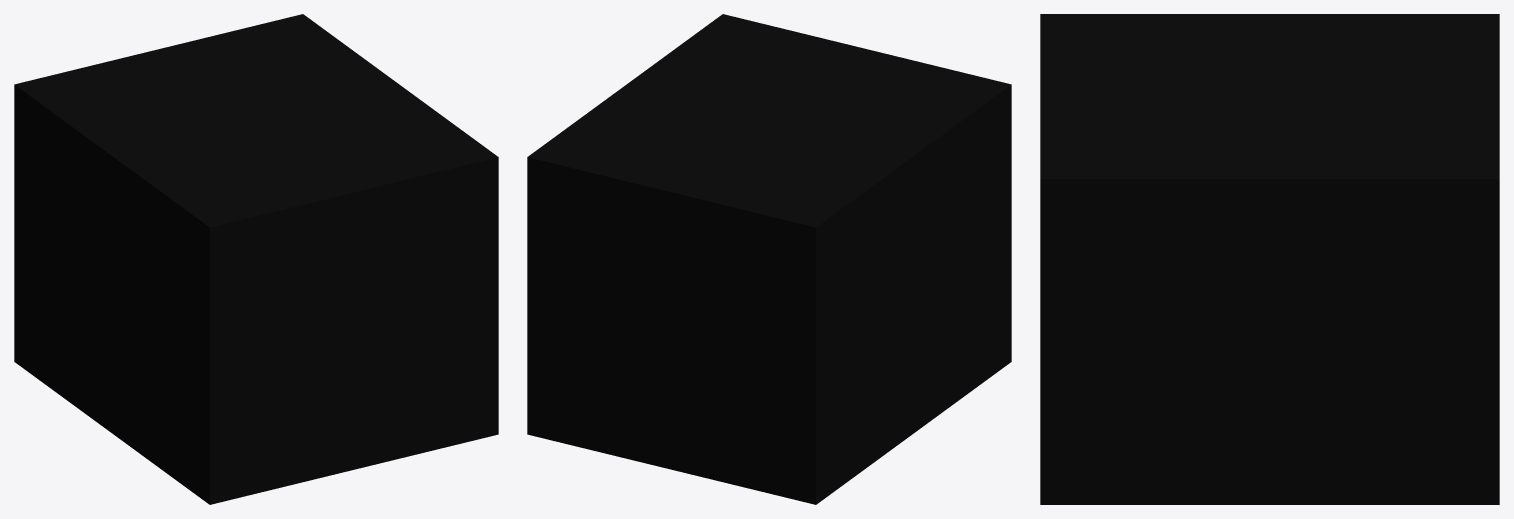
File: half_life_alyx_-_hotel_lobby_basement.glb
3 views of the same model, side by side, from view 1: azimuth 30°, elevation 25°; view 2: azimuth 150°, elevation 25°; view 3: azimuth 270°, elevation 25° (orthographic). The views are drawn at different scales.
Visible parts, largest first — view 1: Object_2; view 2: Object_2; view 3: Object_2.
Part boxes in pixels (x1=…): Object_2: x1=14, y1=14, x2=498, y2=504; Object_2: x1=527, y1=14, x2=1011, y2=504; Object_2: x1=1040, y1=14, x2=1499, y2=504.
Size of the model in its own units: 6.9 by 6.33 by 8.1.
Materials: 1 (1 with a texture image).
